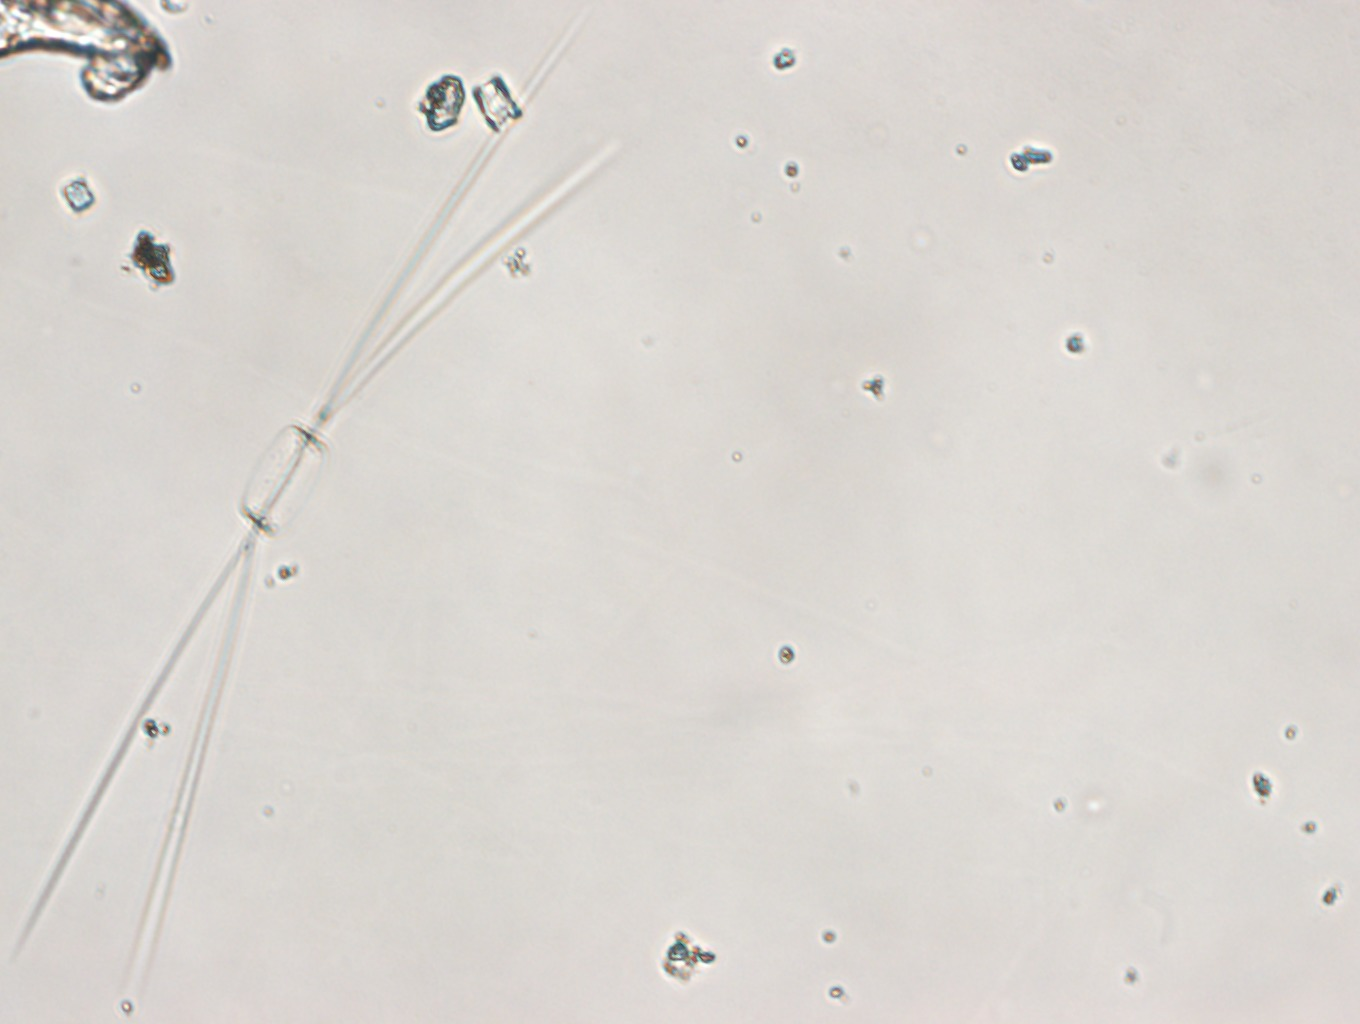chaetoceros: (18, 32, 595, 1002)
